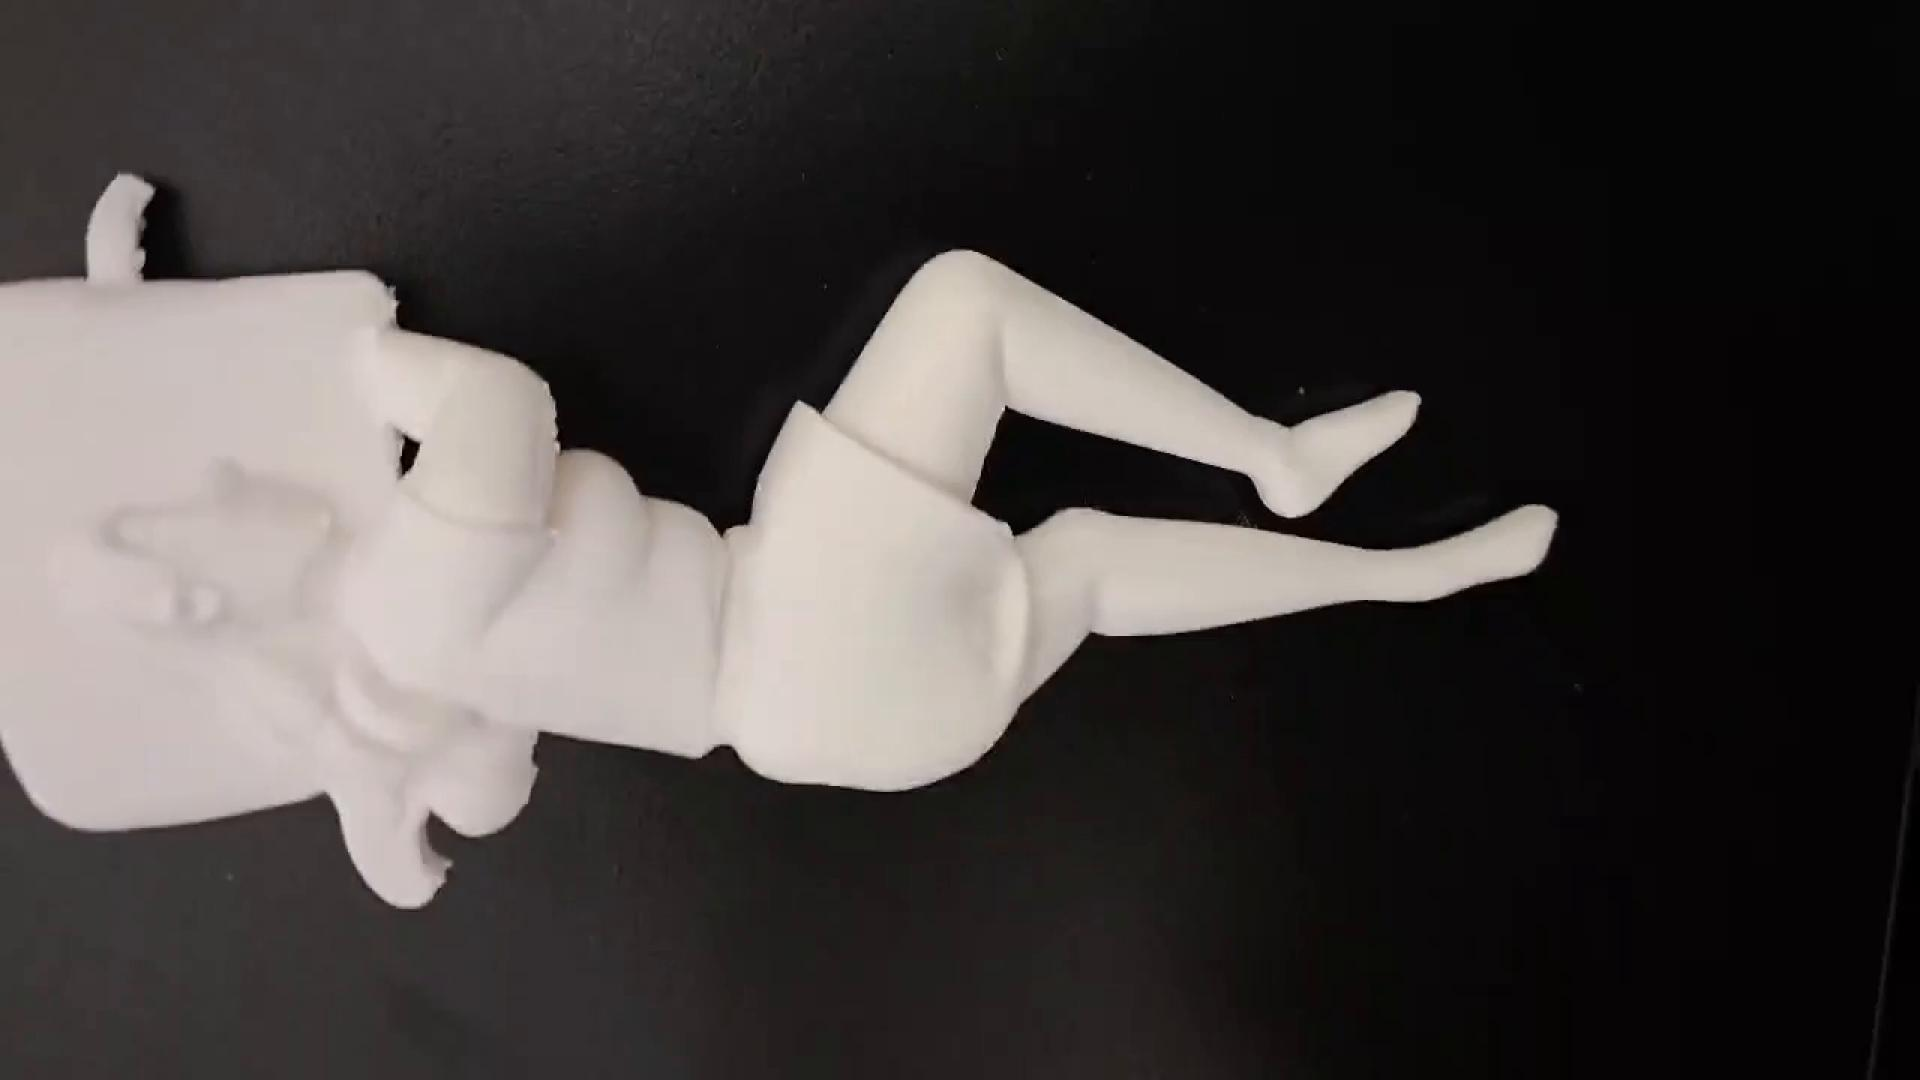Good-style: (0, 164, 1557, 916)
